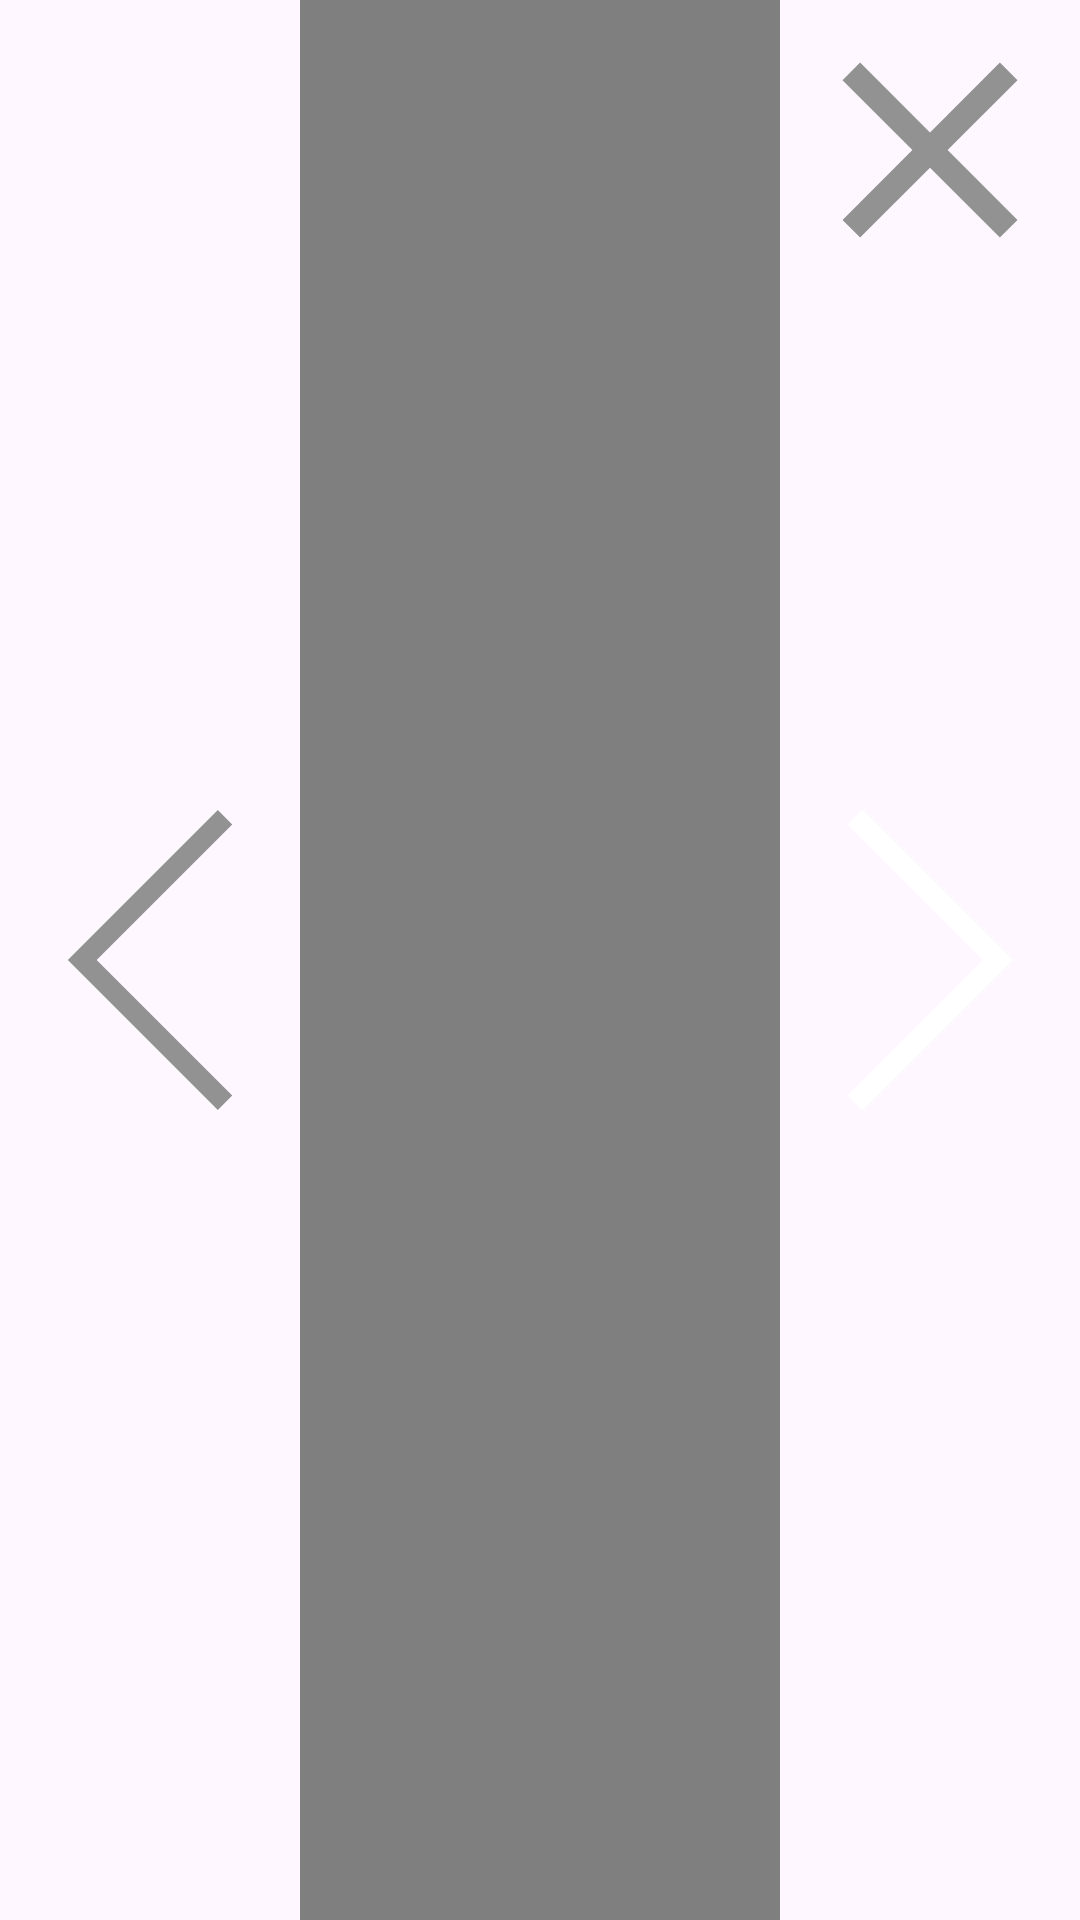

Where to tap for icons on this 1080px×1920px app screen, as (x,y):
arrow left: (150,960)
close: (930,150)
